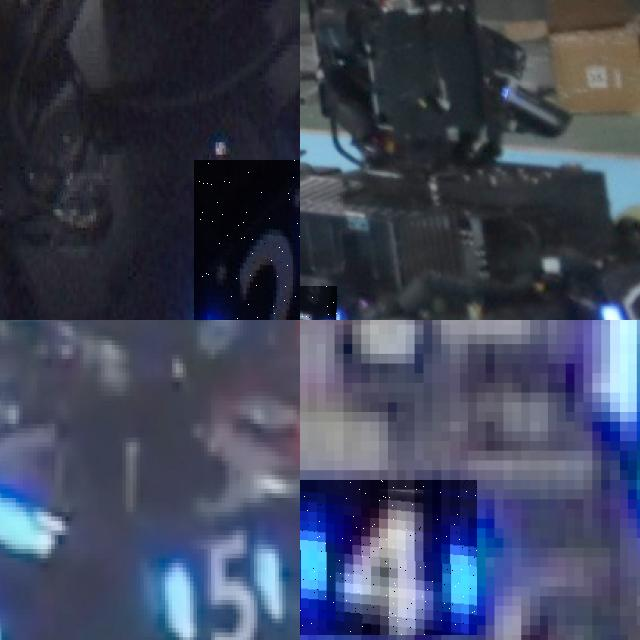B2: (194, 160, 300, 320)
B4: (300, 480, 476, 635)
B5: (165, 530, 286, 640)
